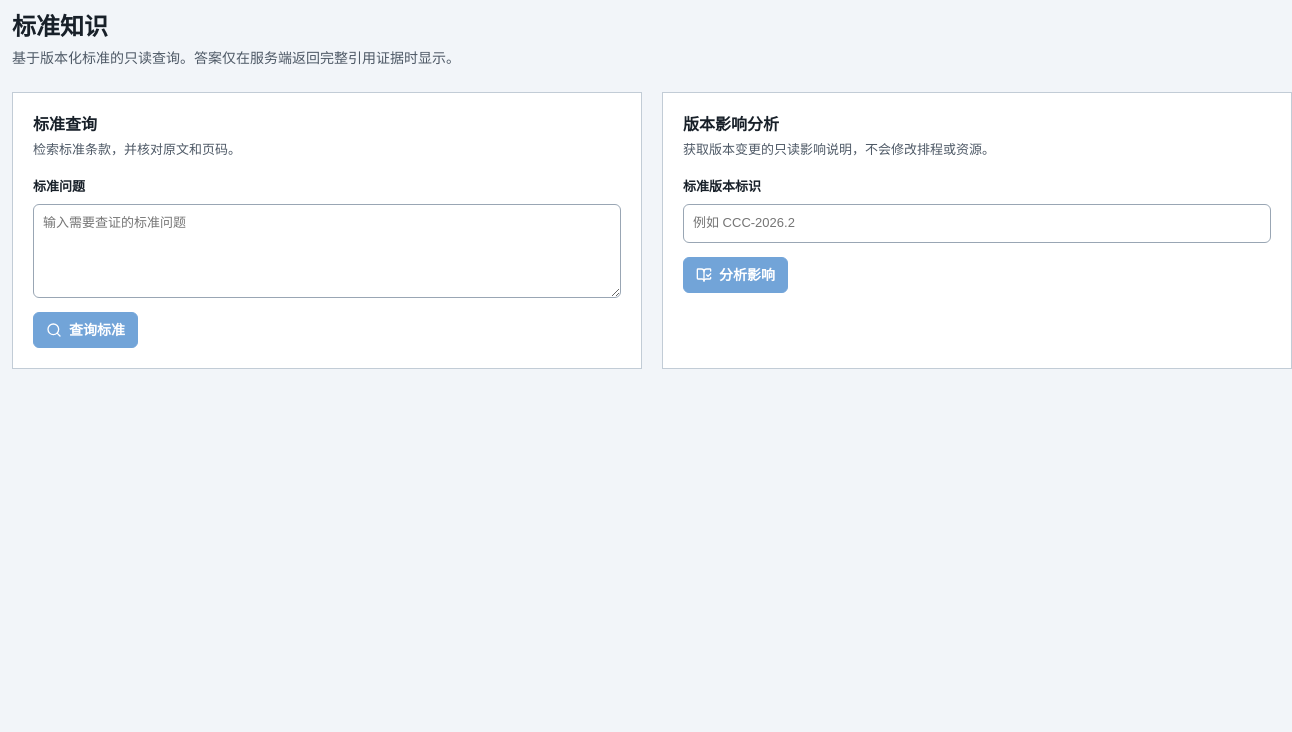
Test case: KnowledgePage › withholds an uncited conclusion and explicitly reports insufficient evidence
Type "没有证据的问题" into the text box labelled "标准问题".
click(327, 251); type("没有证据的问题")  # box [33,204,621,298]
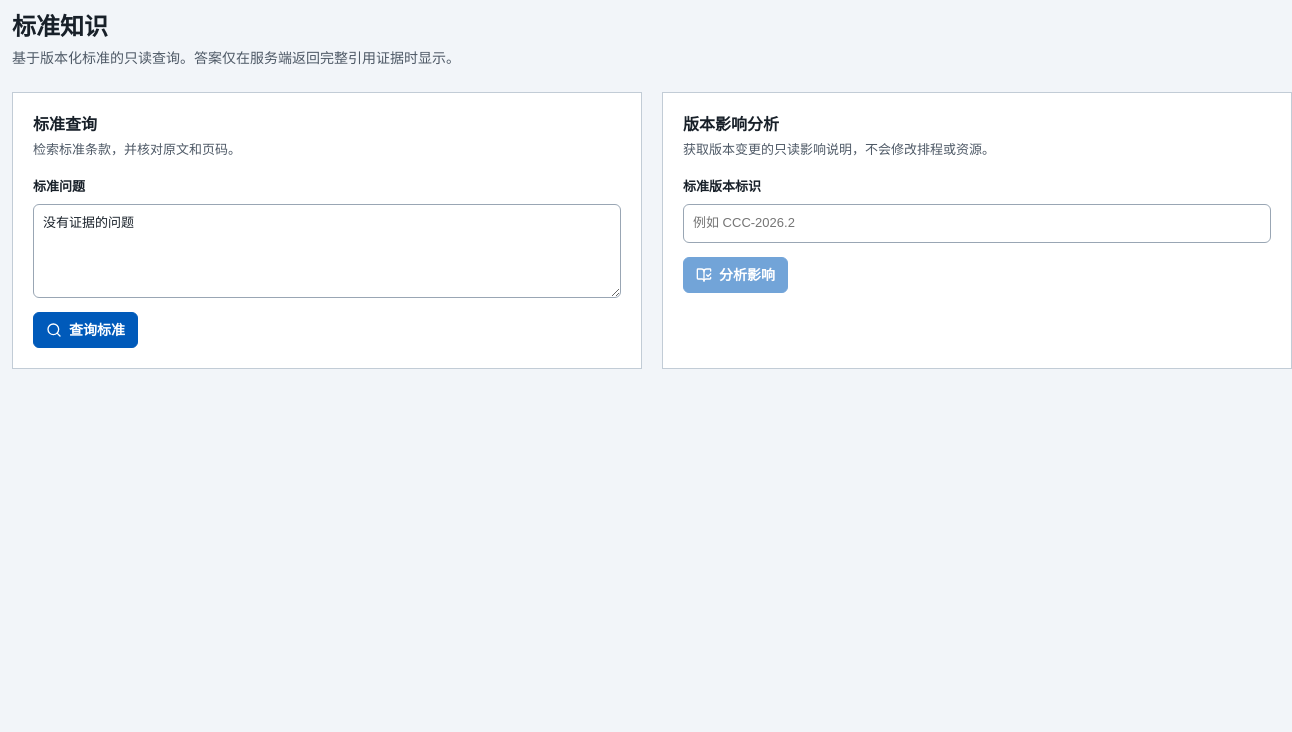
Click the button "查询标准".
click(86, 330)  # box [33,312,138,348]
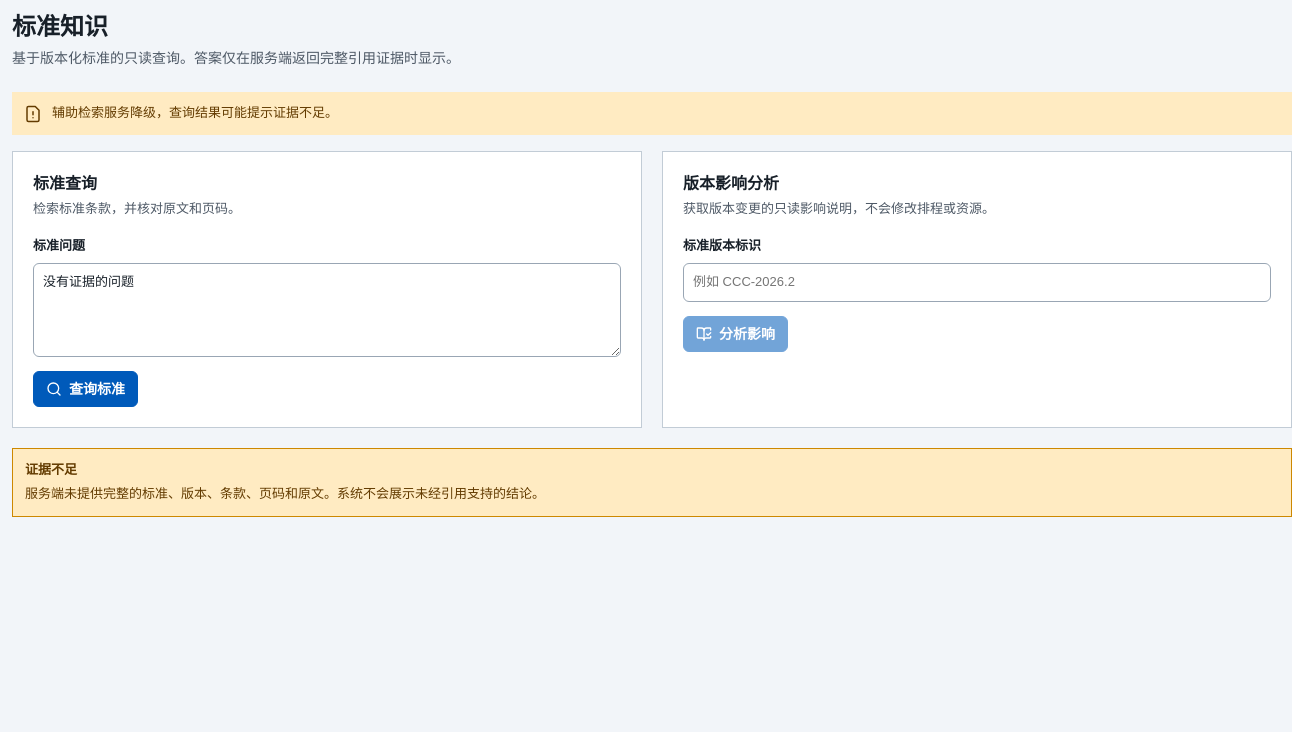
Now the message "证据不足 服务端未提供完整的标准、版本、条款、页码和原文。系统不会展示未经引用支持的结论。" is shown, box [12,448,1291,517]
